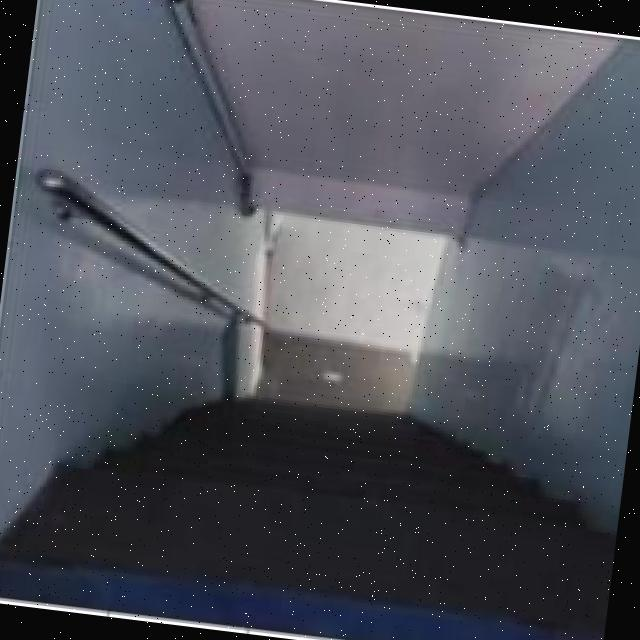stairs: (0, 358, 626, 640)
